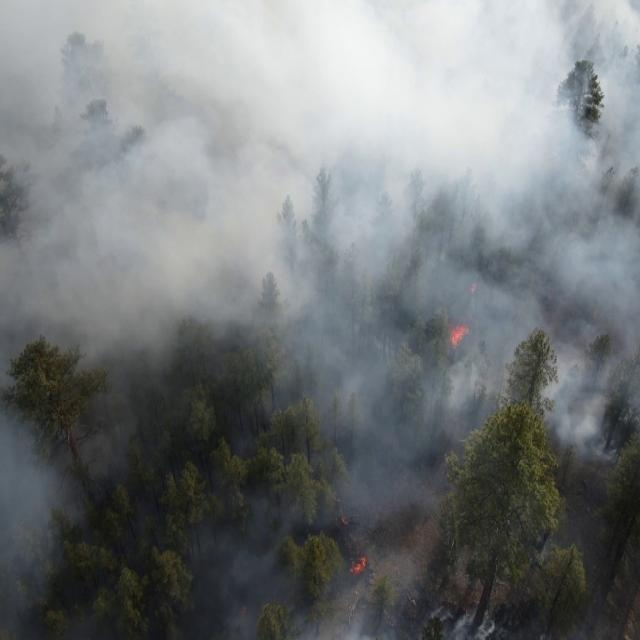fire: (449, 323, 471, 349), (334, 490, 349, 526), (348, 552, 370, 576), (470, 279, 480, 296), (238, 606, 250, 620)
smoke: (2, 0, 444, 640), (510, 0, 640, 336), (443, 0, 510, 396), (538, 336, 640, 466), (430, 596, 632, 640), (444, 397, 485, 429)
